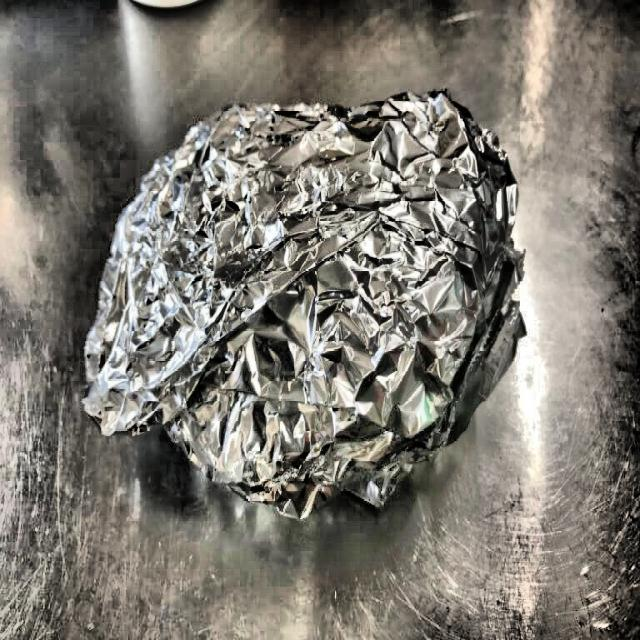Foil: (78, 84, 540, 539)
